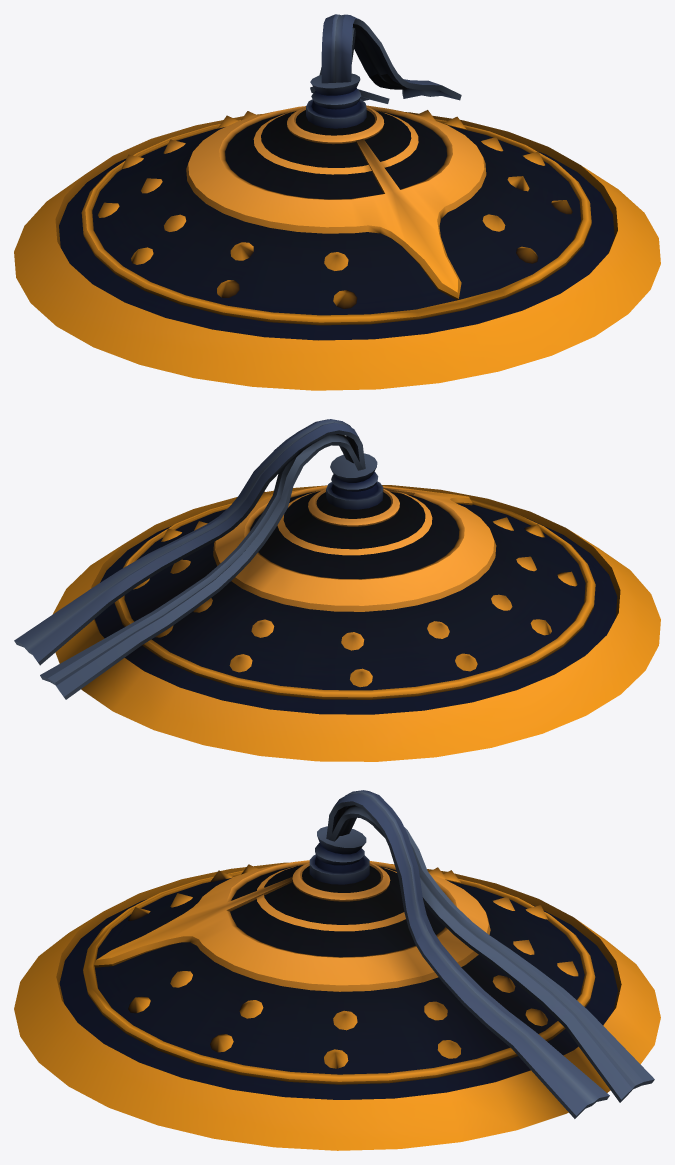
File: Cap_Metallic_Cone_Hat.gltf
3 views of the same model, one above another, from view 1: azimuth 30°, elevation 25°; view 2: azimuth 150°, elevation 25°; view 3: azimuth 270°, elevation 25° (orthographic). The views are drawn at different scales.
Visible parts, largest first — view 1: Cap_Metallic_Cone_Hat; view 2: Cap_Metallic_Cone_Hat; view 3: Cap_Metallic_Cone_Hat.
Boxes of the visible parts, x1,y1,x2,y2 form: Cap_Metallic_Cone_Hat: (14, 14, 660, 390); Cap_Metallic_Cone_Hat: (14, 419, 660, 761); Cap_Metallic_Cone_Hat: (14, 790, 660, 1150).
Bounding box in the file's own units: 1.23 × 0.4837 × 1.22.
1 material, 1 textured.
